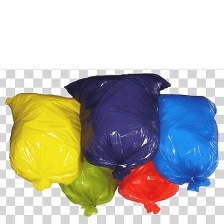plastic_bag: (63, 70, 174, 184), (1, 86, 86, 192), (137, 90, 221, 193), (109, 156, 186, 216), (57, 157, 122, 219)
